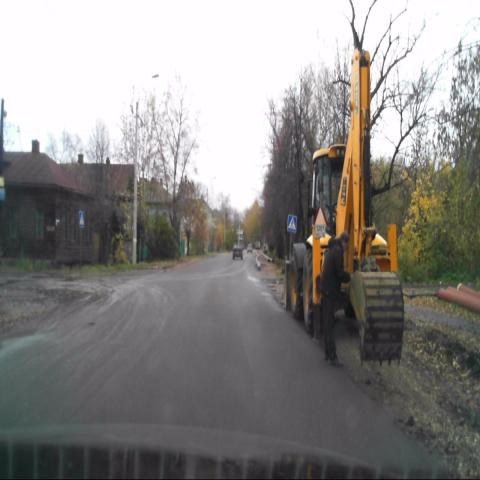5_19_1: (287, 215, 297, 233)
